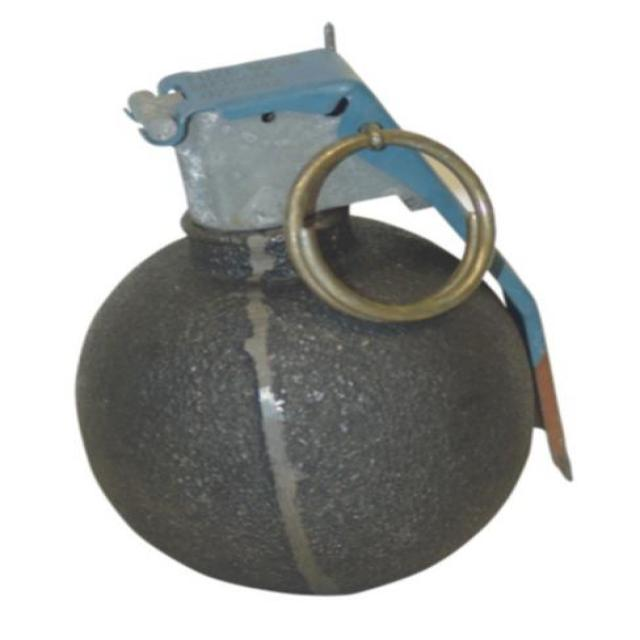grenade: (73, 25, 576, 598)
